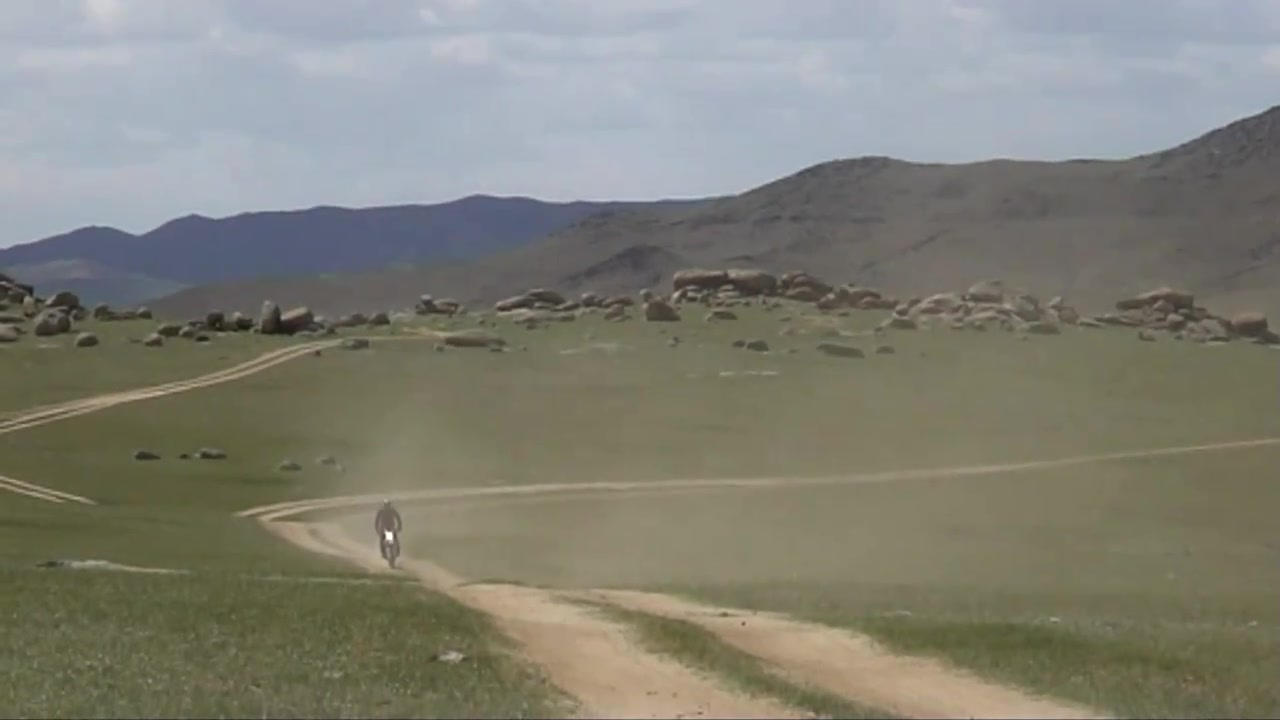motorbike: (372, 516, 410, 566)
